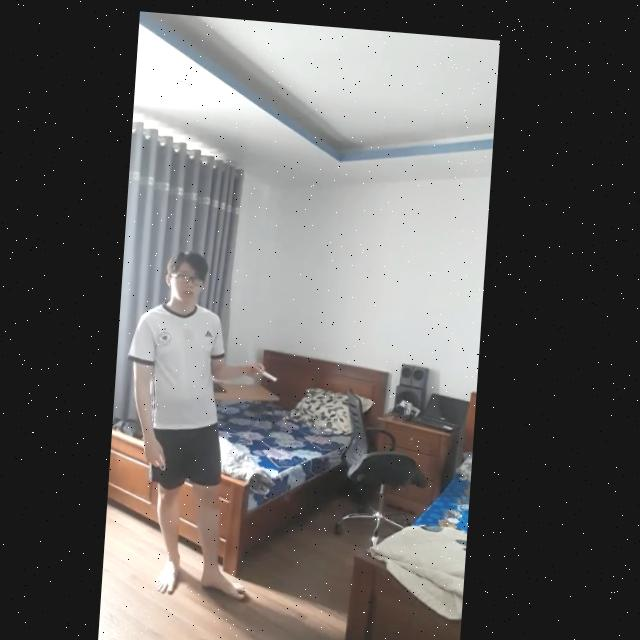cigarette: (264, 365, 283, 377)
